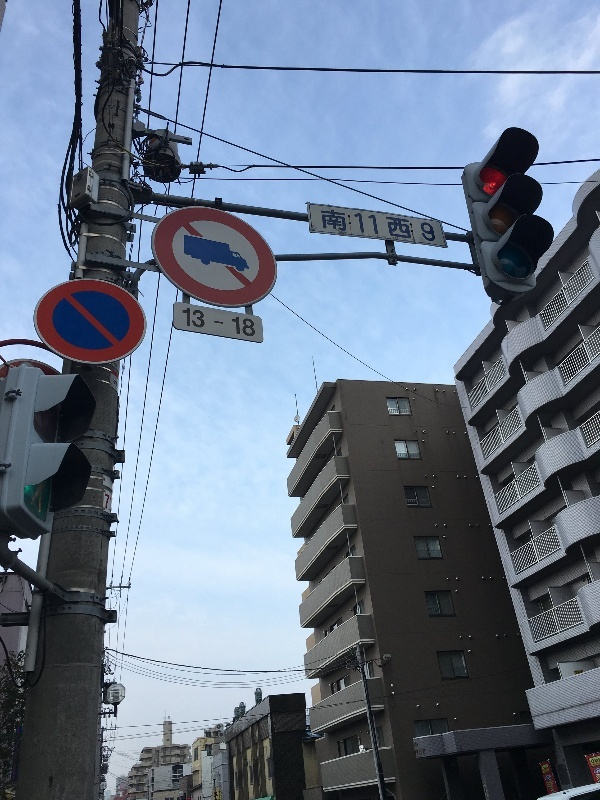text: (193, 303, 208, 338), (209, 303, 224, 338), (225, 303, 240, 338), (321, 208, 336, 242), (337, 208, 352, 242), (353, 208, 368, 242), (369, 208, 384, 242), (385, 208, 400, 242), (401, 208, 416, 242), (417, 208, 432, 242), (241, 303, 255, 338), (183, 303, 192, 338), (547, 780, 560, 794), (105, 493, 112, 512), (545, 774, 560, 781), (433, 208, 436, 242), (114, 363, 128, 370), (114, 380, 128, 386), (116, 382, 128, 389), (417, 749, 426, 756), (593, 758, 600, 764), (594, 768, 600, 774), (596, 775, 600, 782), (545, 766, 548, 771), (415, 749, 416, 756), (591, 758, 592, 764), (543, 766, 544, 771)
